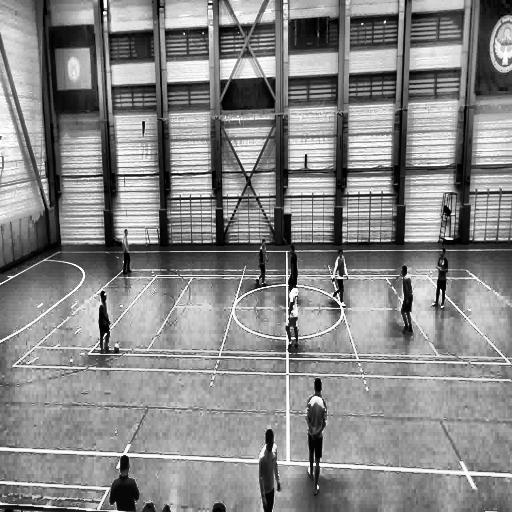ball: (114, 341, 120, 352)
player: (304, 379, 327, 496), (257, 428, 280, 512), (97, 287, 114, 353), (332, 249, 349, 308), (286, 276, 299, 350), (433, 248, 448, 309), (401, 266, 413, 336), (255, 240, 266, 287), (122, 228, 132, 274)
